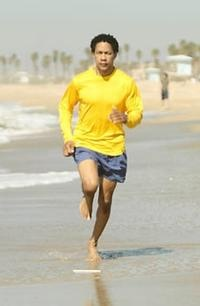person without safety: (66, 31, 130, 259)
